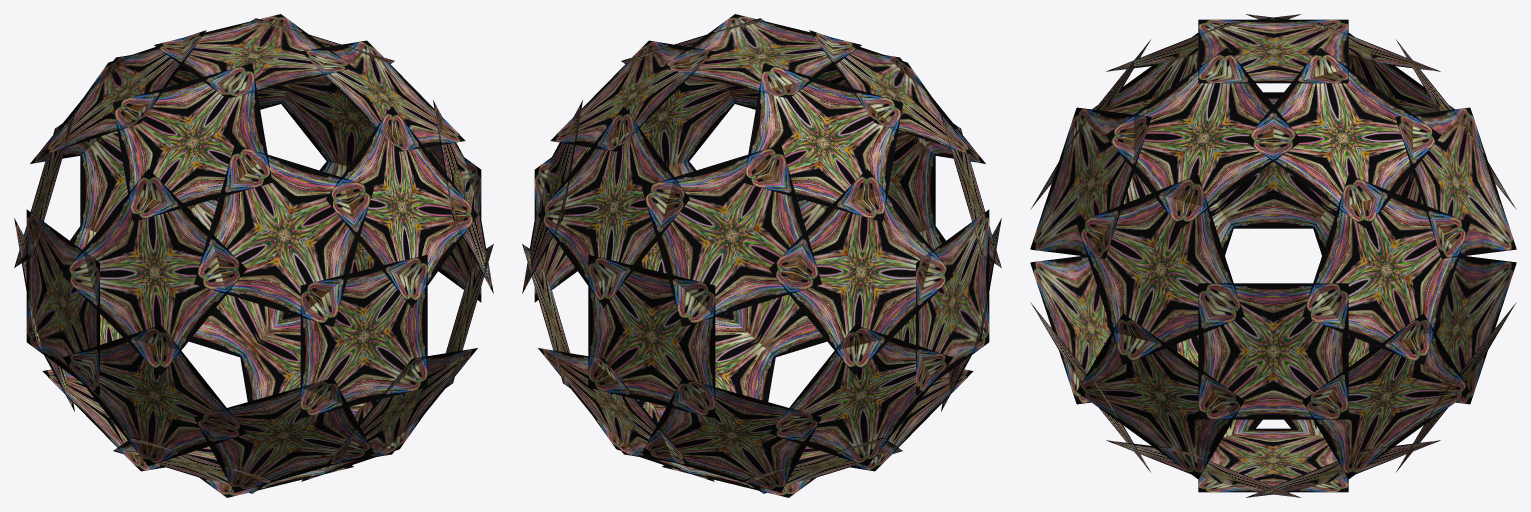
File: TruncatedDodecadodecahedron2.gltf
3 views of the same model, side by side, from view 1: azimuth 30°, elevation 25°; view 2: azimuth 150°, elevation 25°; view 3: azimuth 270°, elevation 25° (orthographic). The views are drawn at different scales.
Parts seen in each view (by area): view 1: 1TruncatedDodecadodecahedron; view 2: 1TruncatedDodecadodecahedron; view 3: 1TruncatedDodecadodecahedron.
Boxes of the visible parts, x1=… form: 1TruncatedDodecadodecahedron: x1=14, y1=14, x2=493, y2=497; 1TruncatedDodecadodecahedron: x1=522, y1=14, x2=1001, y2=497; 1TruncatedDodecadodecahedron: x1=1030, y1=14, x2=1516, y2=497.
Bounding box in the file's own units: 3.24 × 3.24 × 3.24.
1 material, 1 textured.
